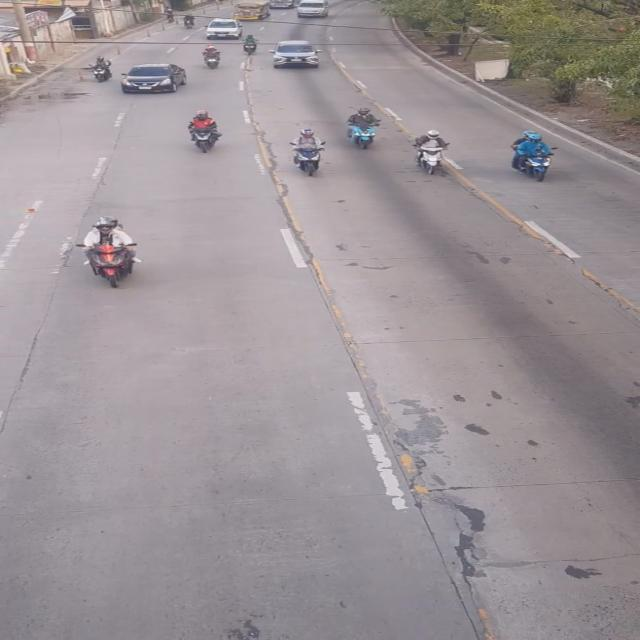car: (119, 62, 183, 96), (270, 38, 321, 68)
motorbike: (83, 211, 134, 290), (512, 130, 552, 184), (183, 109, 224, 153), (412, 129, 451, 174), (292, 124, 323, 178), (342, 108, 382, 147), (238, 31, 268, 57), (202, 46, 228, 70), (93, 52, 112, 84)
